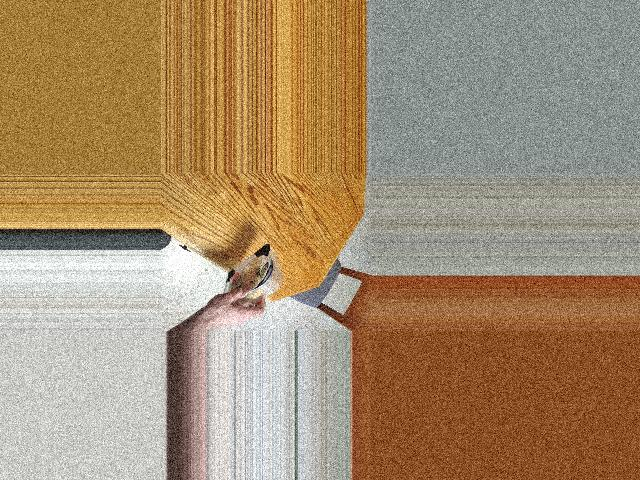cheese: (205, 247, 287, 302)
